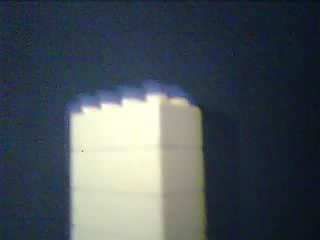lego: (67, 90, 205, 240)
